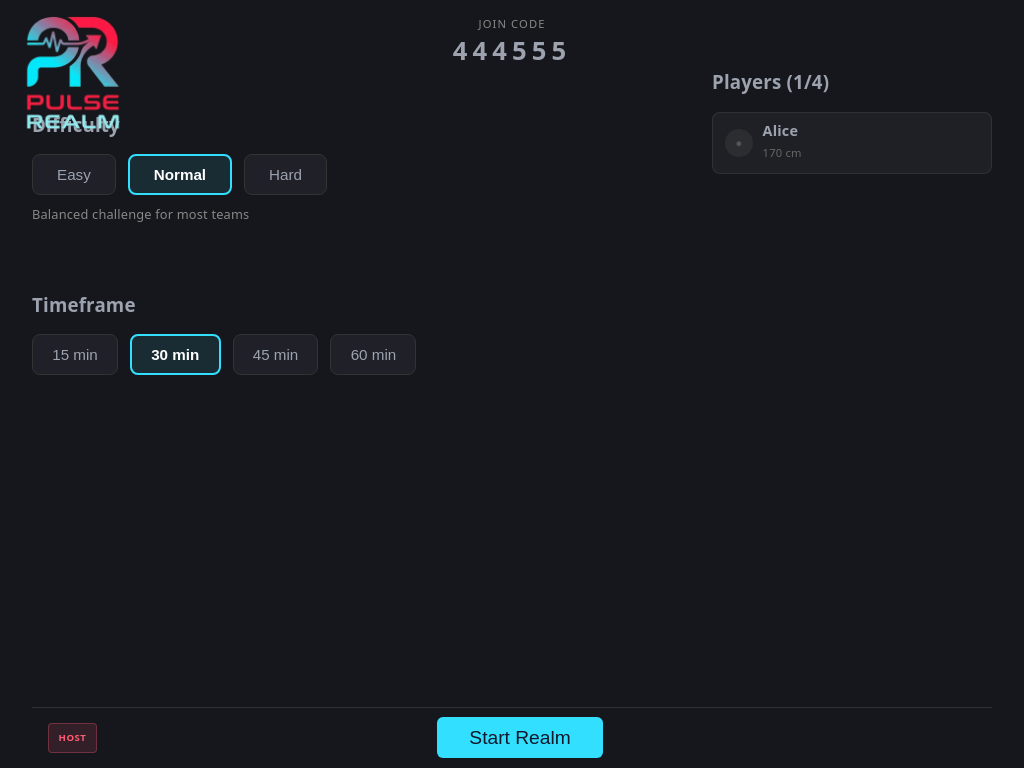
it: DungeonLobby › difficulty selection › can switch back to Normal difficulty
What coordinates should you click on to do the following:
click the button "Easy"
I would click on:
 (74, 174)
Its box is [32,154,116,195].
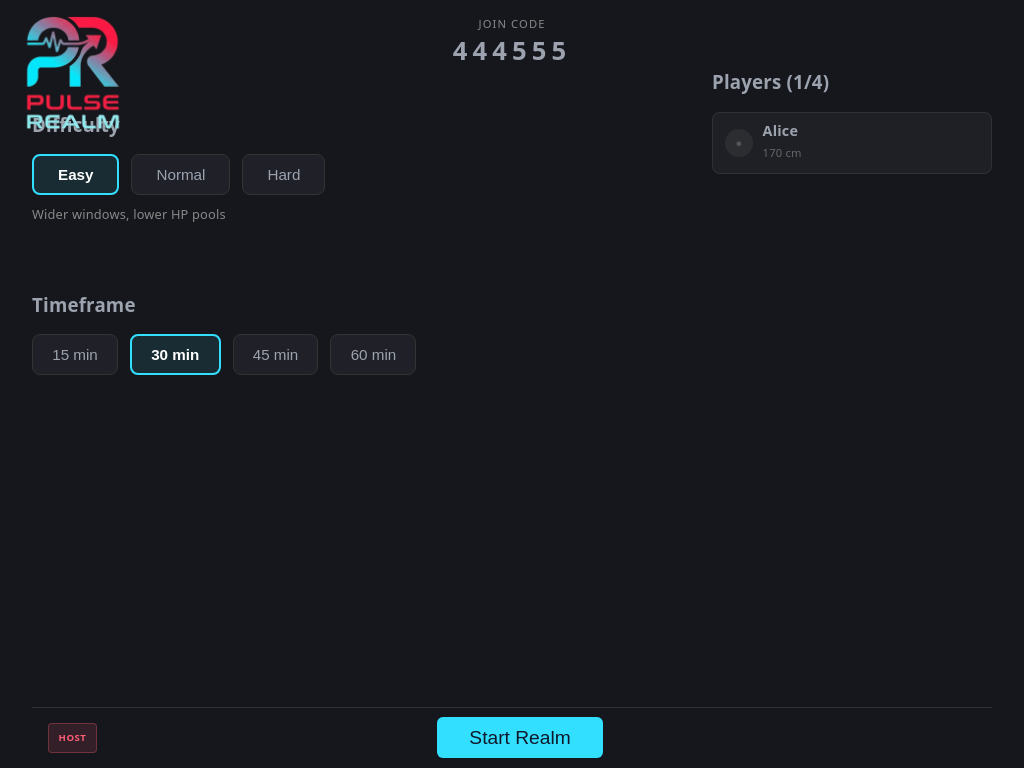
What coordinates should you click on to do the following:
click the button "Normal"
I would click on:
 (181, 174)
Its box is [132,154,230,195].
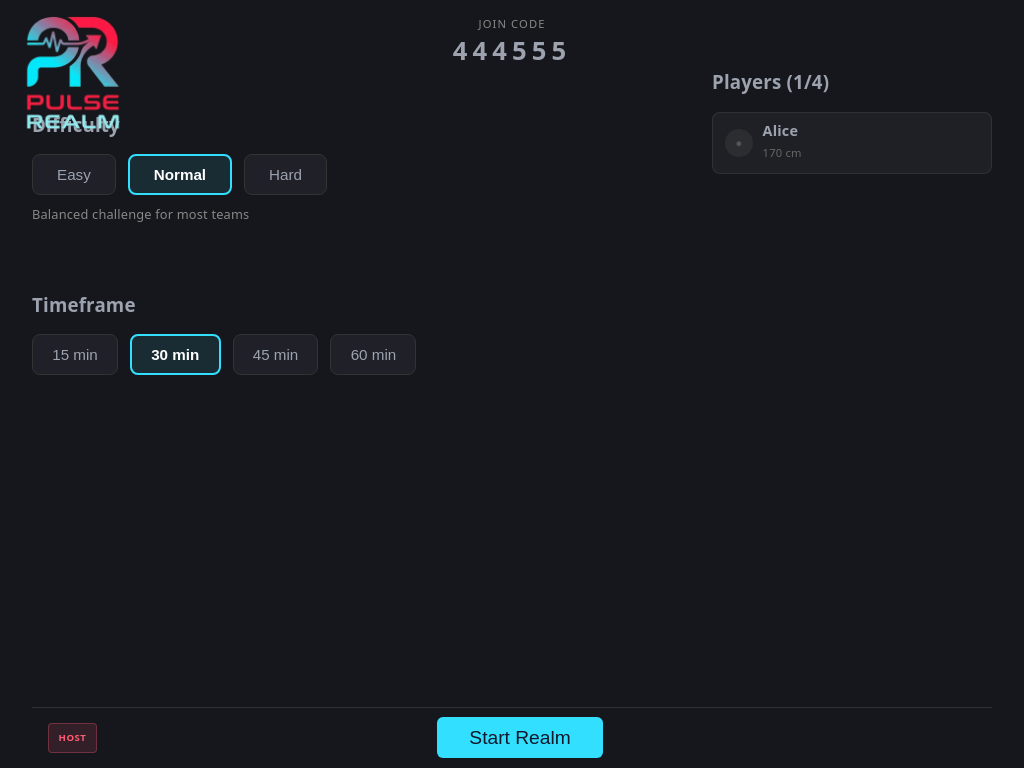
Now the text "Balanced challenge for most teams" is shown, box [32,205,249,223]
